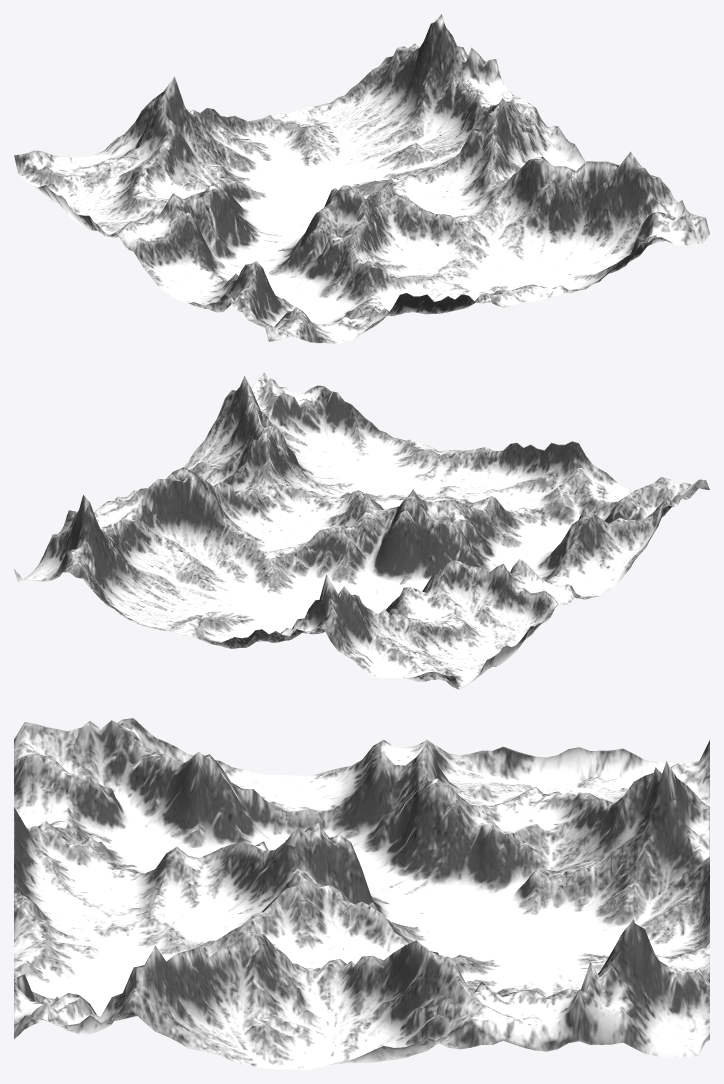
Rendered from The_Hills_Optimized.glb.
3 renders of one model, top to bottom at view 1: azimuth 30°, elevation 25°; view 2: azimuth 150°, elevation 25°; view 3: azimuth 270°, elevation 25°, orthographic. The views are drawn at different scales.
Visible parts, largest first — view 1: Plane; view 2: Plane; view 3: Plane.
Part boxes in pixels (bbox=[...]): Plane: bbox=[14, 14, 709, 343]; Plane: bbox=[14, 372, 709, 689]; Plane: bbox=[14, 718, 709, 1069].
Bounding box in the file's own units: 2 × 0.4425 × 2.
1 material, 1 textured.
